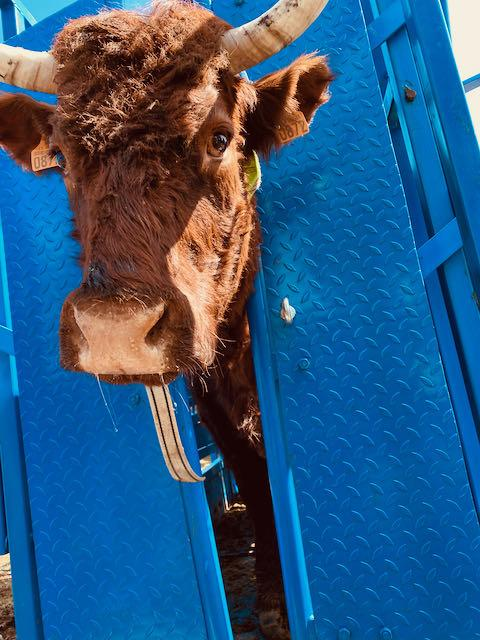muzzles: (53, 298, 203, 393)
